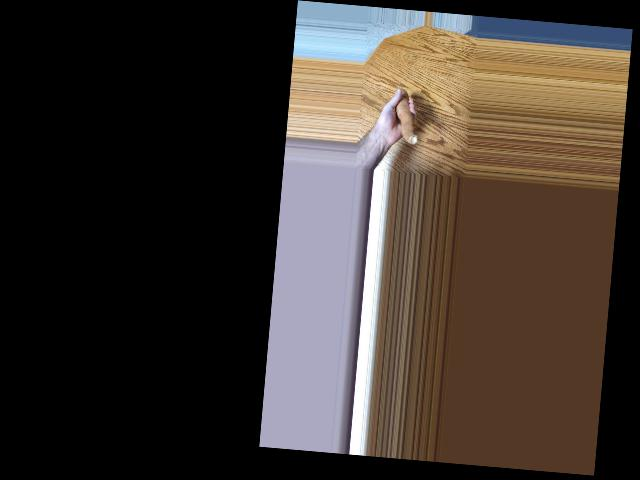sweet_potato: (392, 85, 421, 148)
